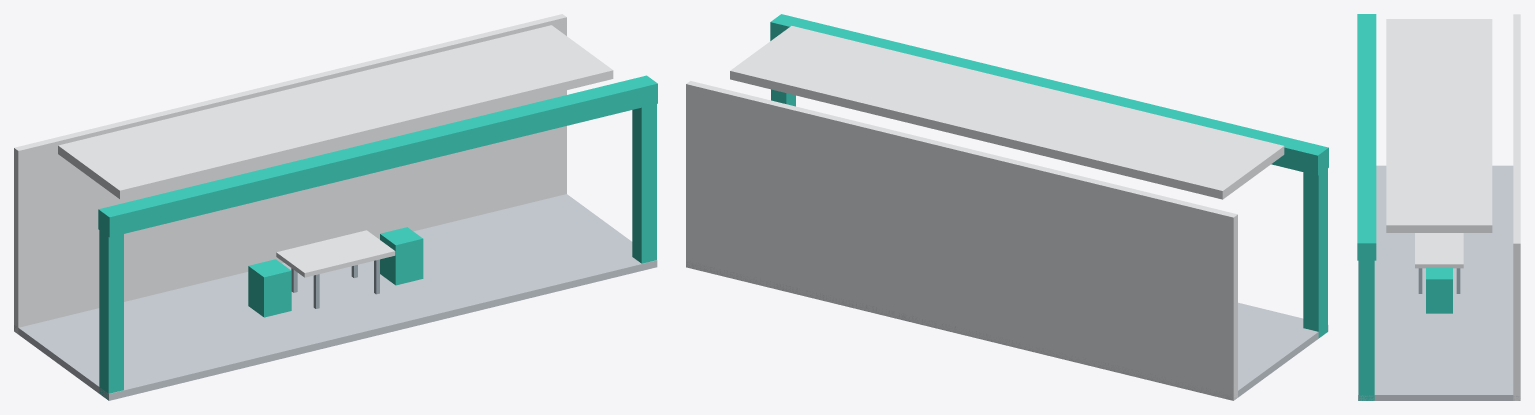
3 renders of one model, left to right at view 1: azimuth 30°, elevation 25°; view 2: azimuth 150°, elevation 25°; view 3: azimuth 270°, elevation 25°, orthographic. The views are drawn at different scales.
Visible parts, largest first — view 1: Exhibition Booth Concept; view 2: Exhibition Booth Concept; view 3: Exhibition Booth Concept.
Part boxes in pixels (x1=…): Exhibition Booth Concept: x1=14, y1=14, x2=657, y2=400; Exhibition Booth Concept: x1=686, y1=14, x2=1328, y2=400; Exhibition Booth Concept: x1=1357, y1=14, x2=1520, y2=400.
Bounding box in the file's own units: 10 × 3.34 × 3.01.
